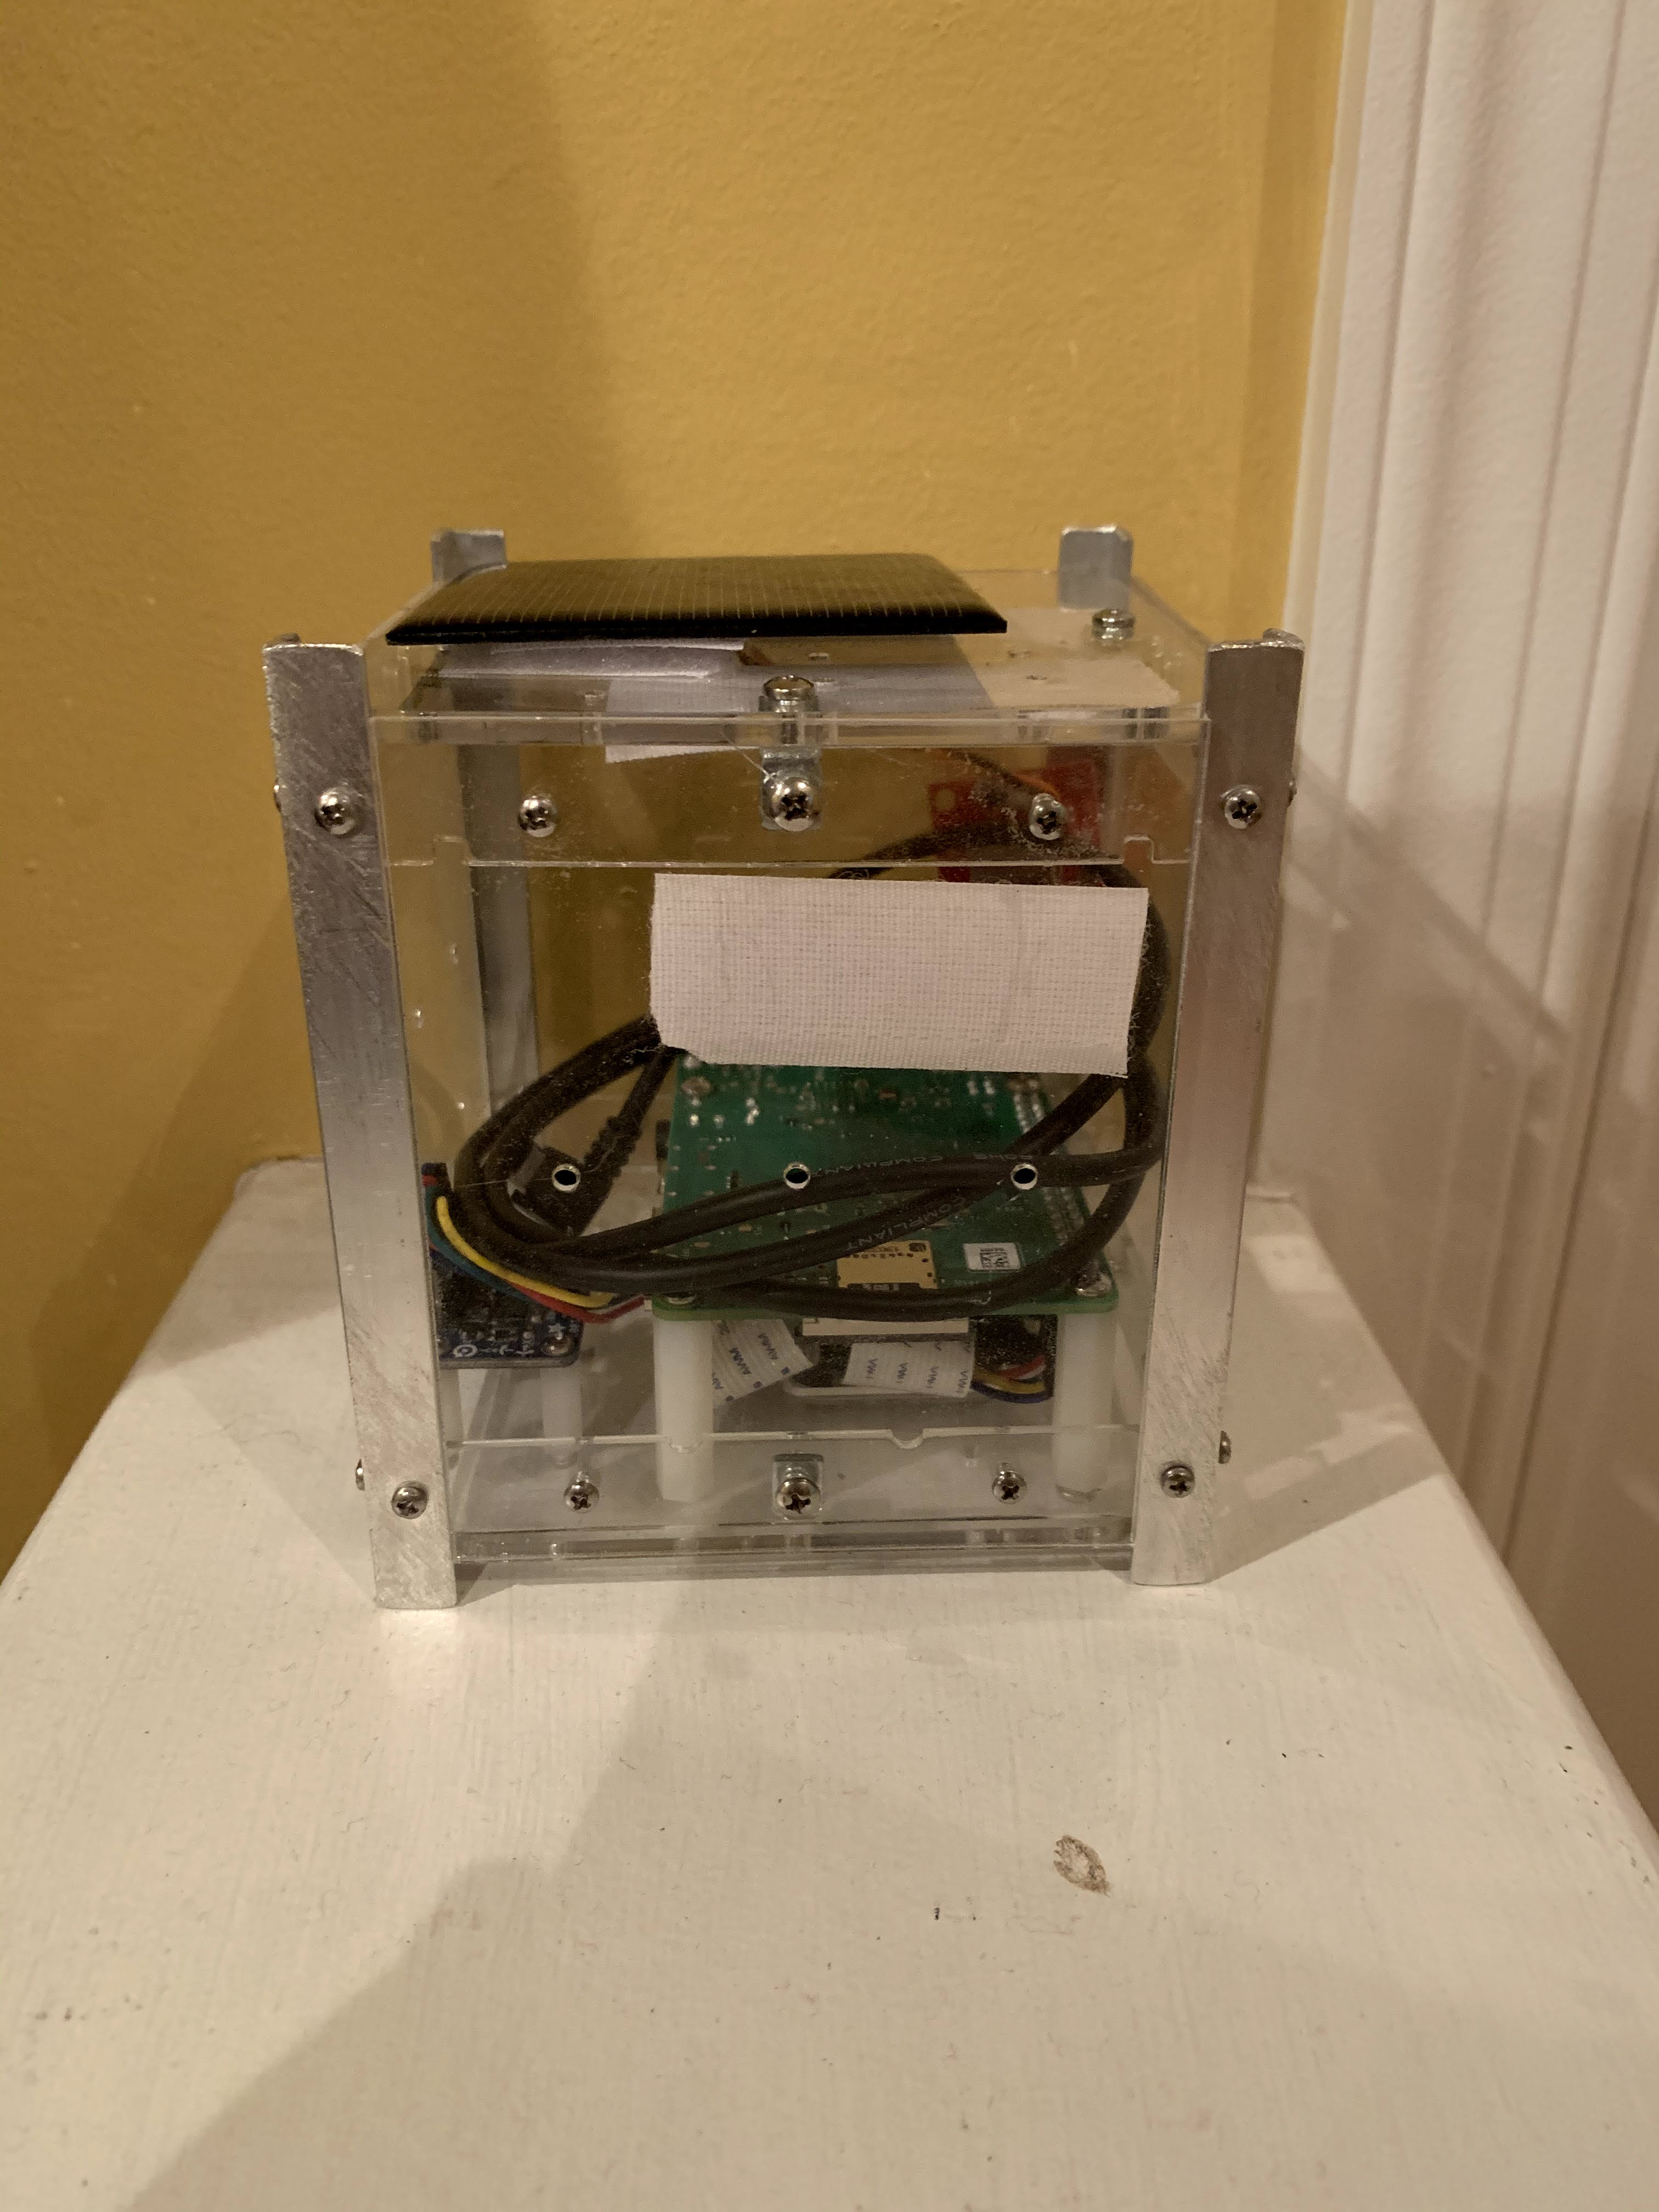Space-debris-cubesat: (239, 427, 1370, 1655)
